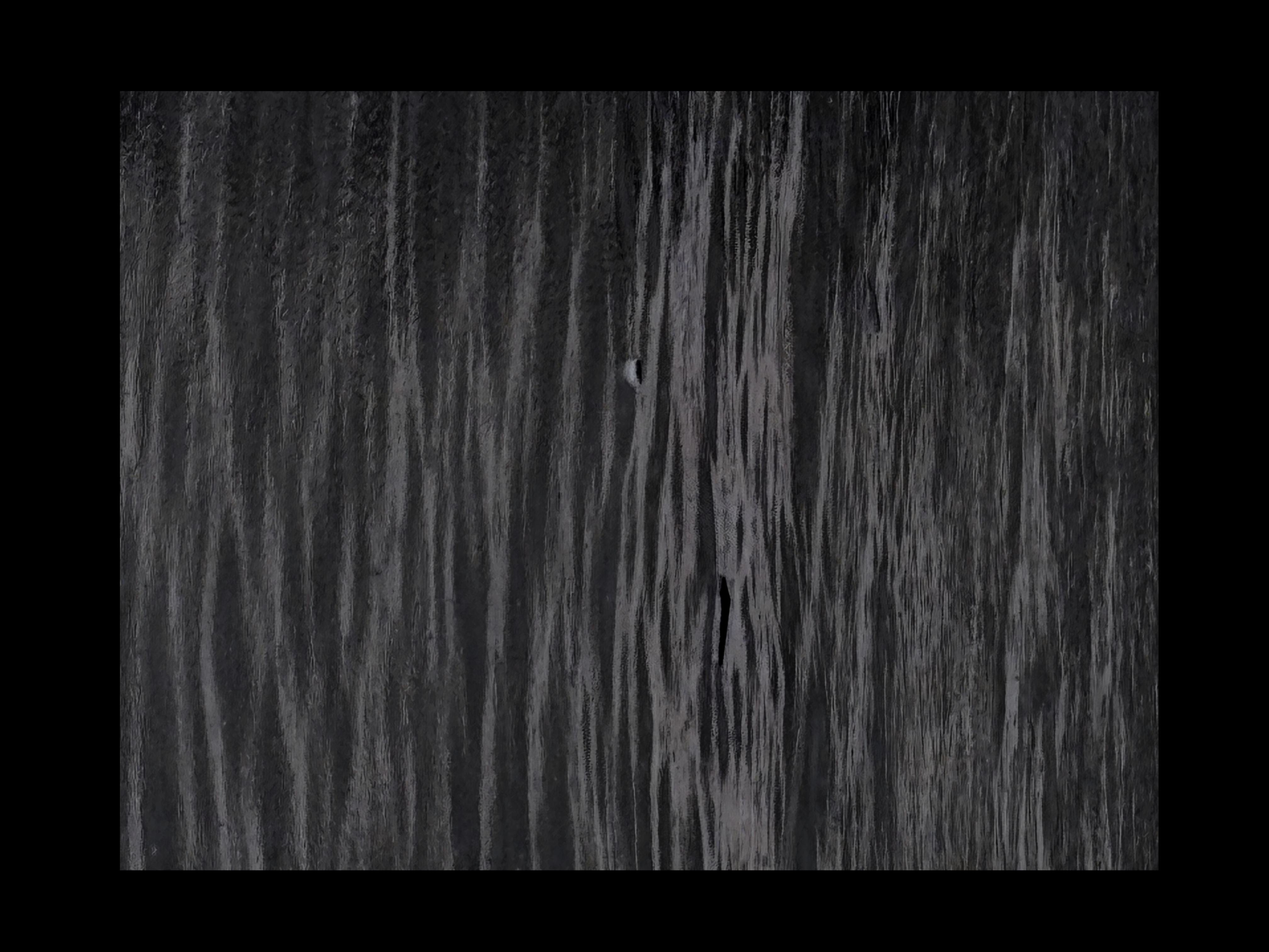Plastic wastes: (1095, 555, 1125, 649), (1013, 331, 1029, 362)
